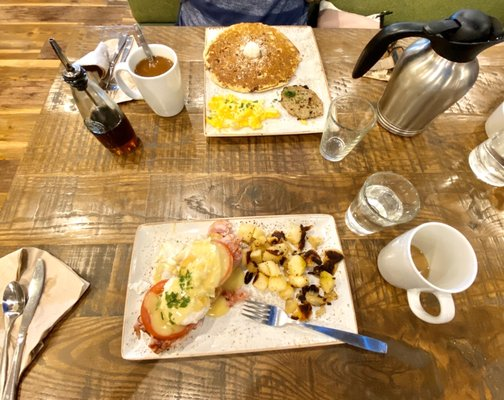pizza: (345, 171, 421, 238)
sandwich: (0, 258, 47, 397)
